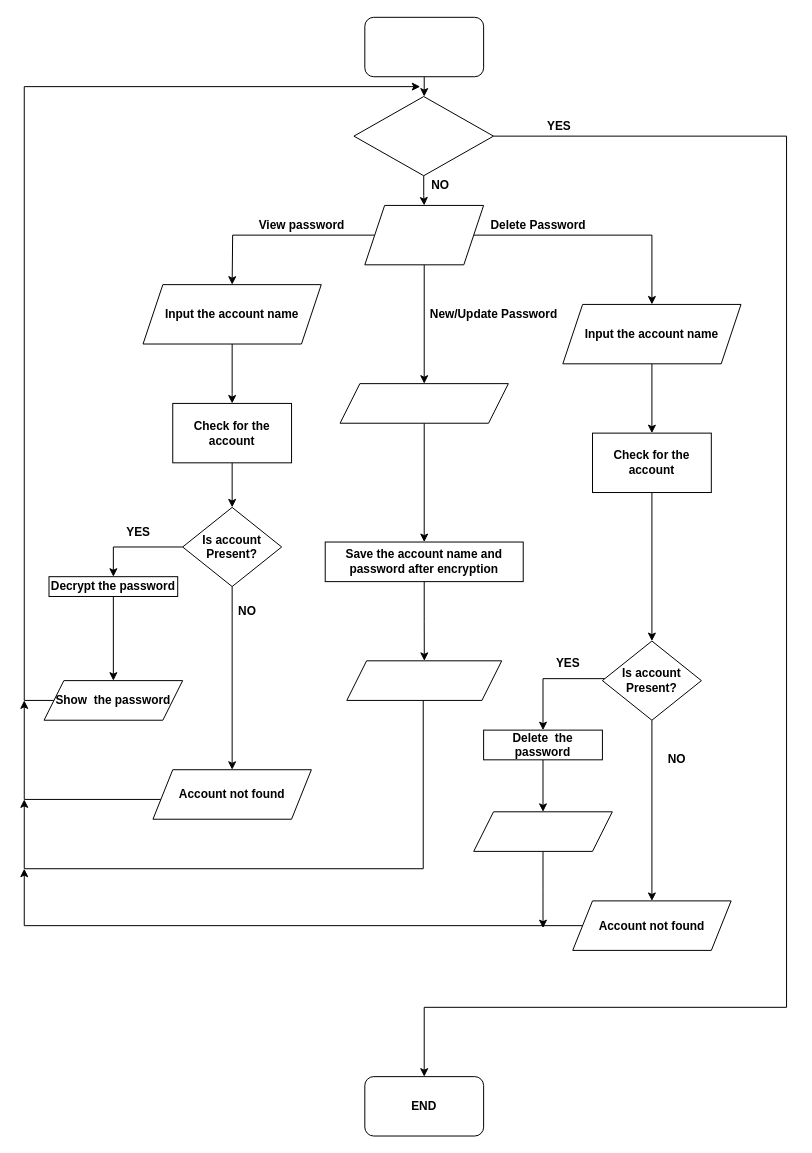
This 812x1153 diagram has some shape labels left out. Each missing label, with the centre of its shape:
"Has 'x' button been pressed?" goes at point (423, 136).
"Input new account name and the password" goes at point (423, 403).
"Password Deleted" goes at point (542, 831).
"Password saved" goes at point (424, 680).
"Select the tab" goes at point (424, 234).
"Start" goes at point (424, 46).
